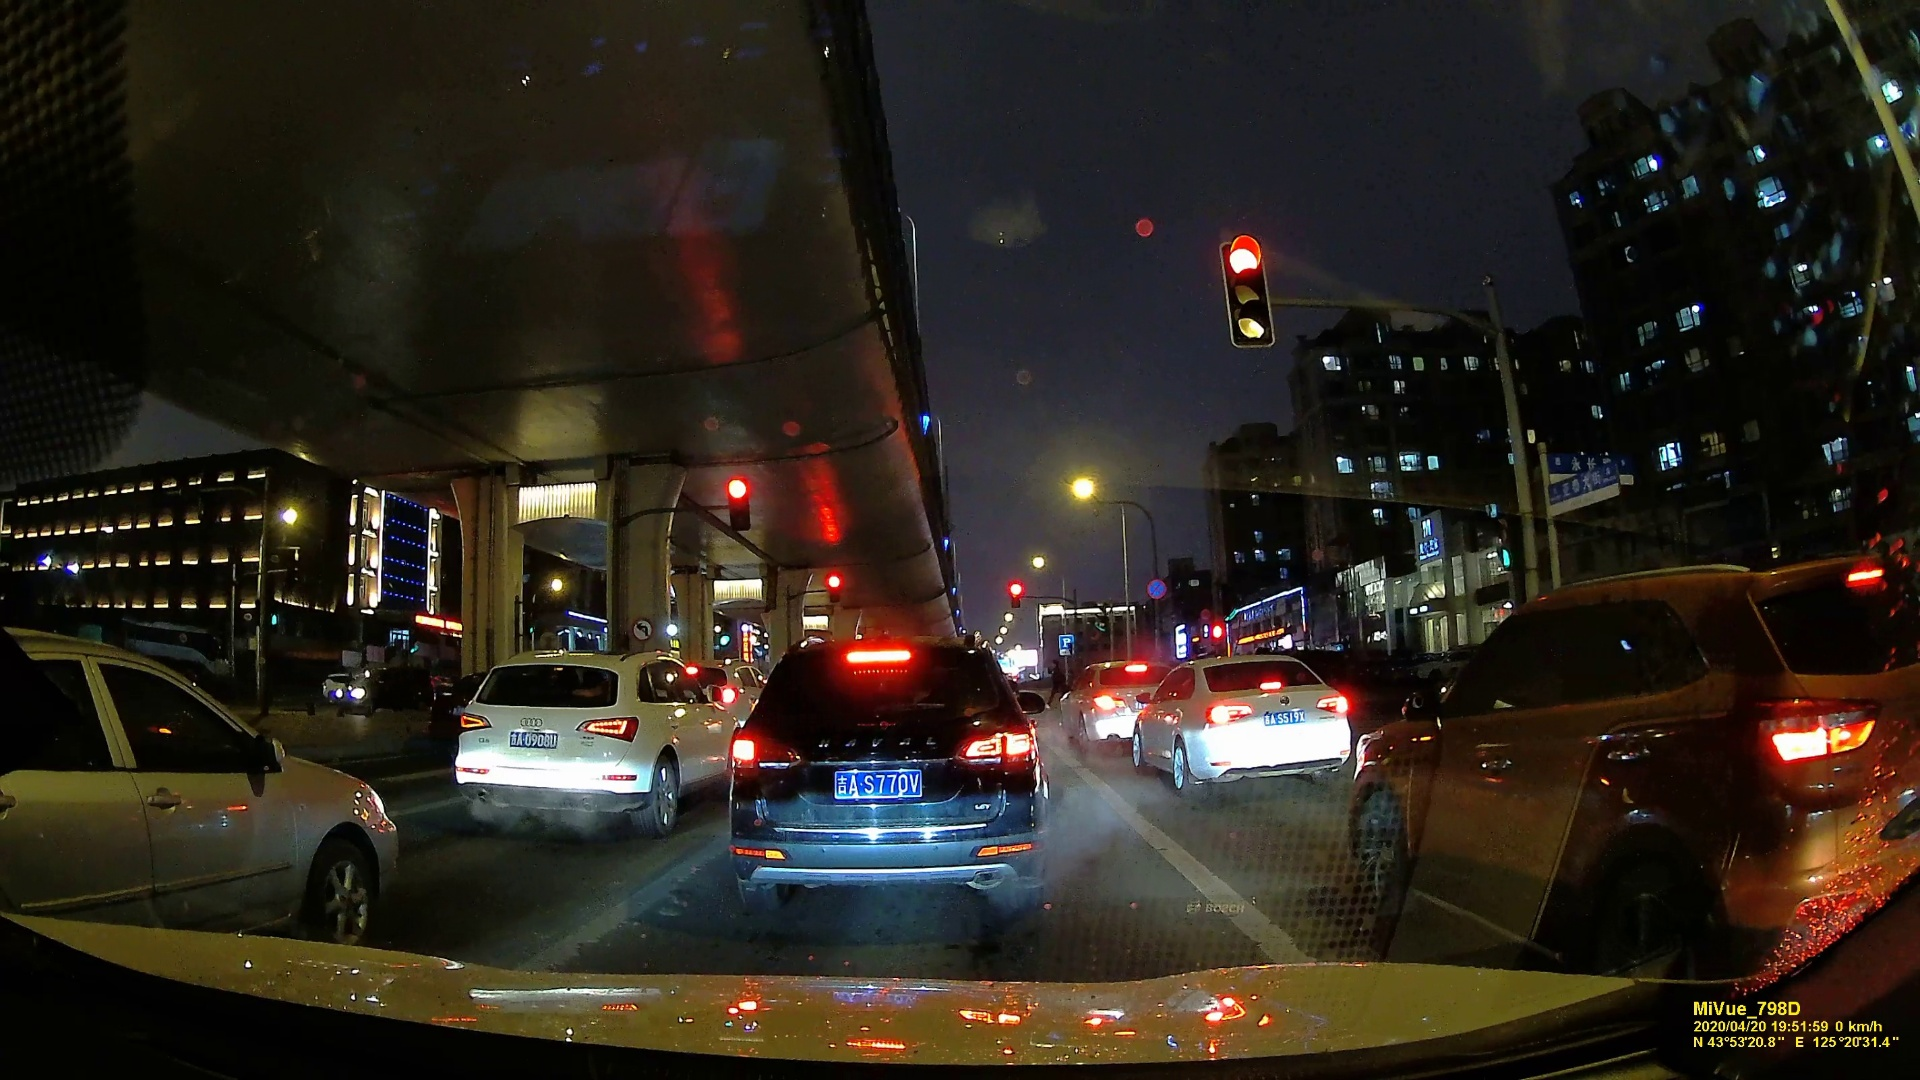traffic_sign: (1224, 231, 1278, 348), (1536, 465, 1629, 509), (1484, 498, 1523, 570), (723, 473, 748, 527), (1147, 578, 1168, 607), (1007, 580, 1025, 613), (630, 615, 653, 640), (824, 572, 843, 603)
vehicle: (1352, 564, 1912, 957), (1, 624, 401, 936), (736, 640, 1036, 916), (448, 650, 728, 833), (1131, 651, 1358, 795), (314, 669, 367, 712)
